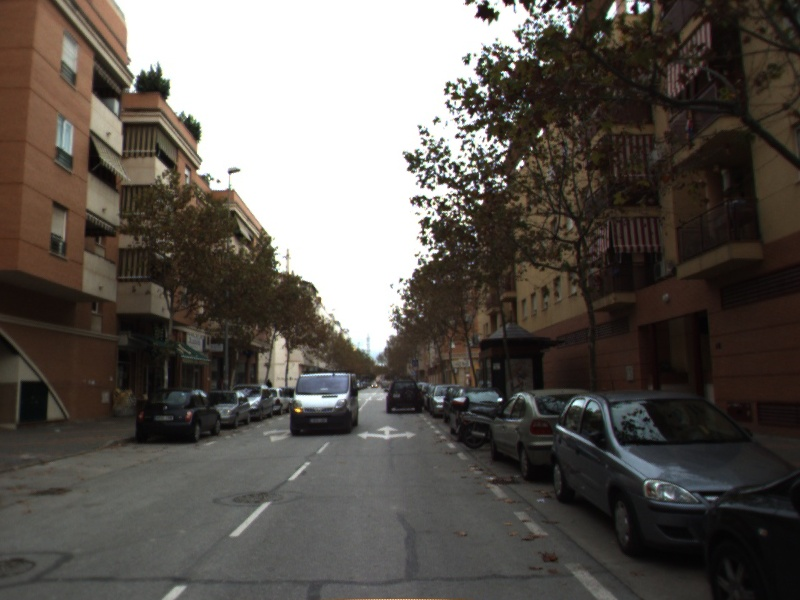STRAIGHT_LEFT_RIGHT: (355, 423, 418, 442)
